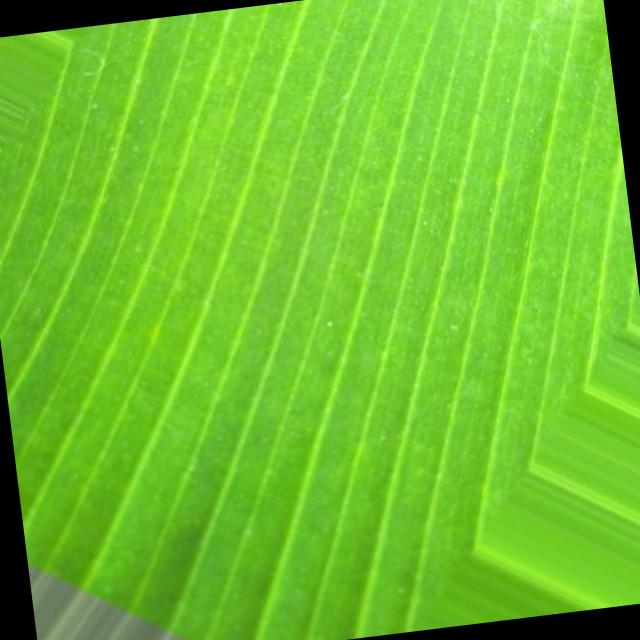Banana_Healthy: (111, 84, 491, 435)
